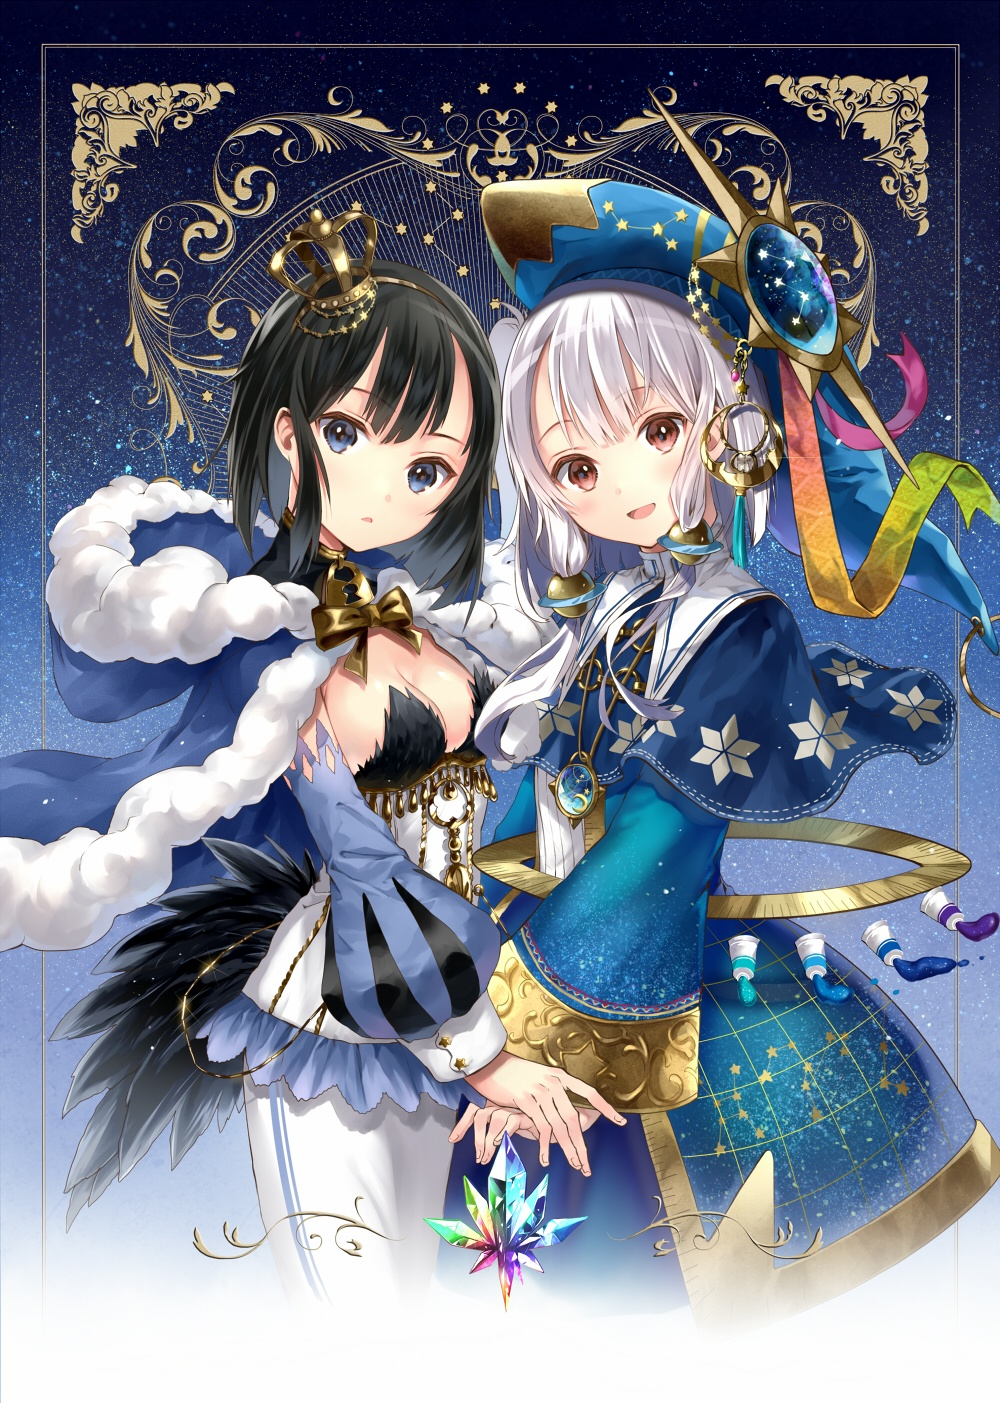纸片人正脸: (219, 234, 507, 563), (486, 235, 743, 559)
